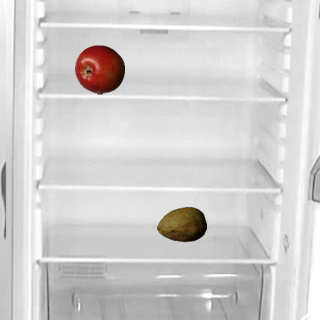Apple Braeburn: (74, 44, 124, 94)
Papaya: (156, 199, 206, 249)
